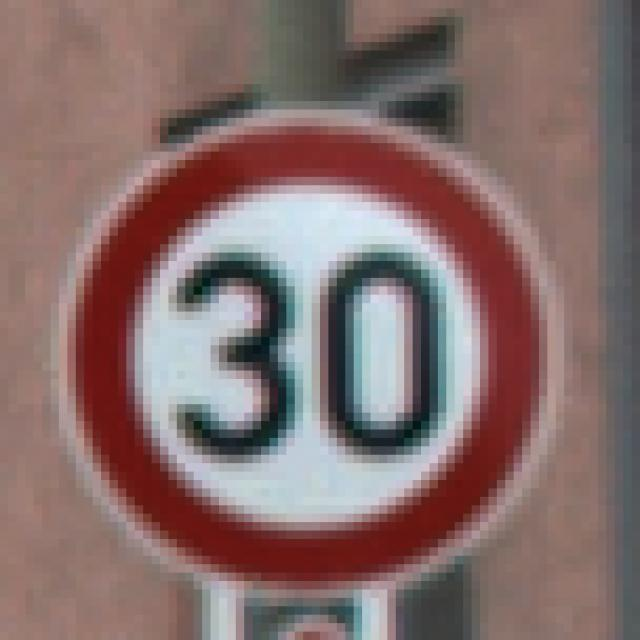Speed Limit -30-: (46, 59, 577, 573)
